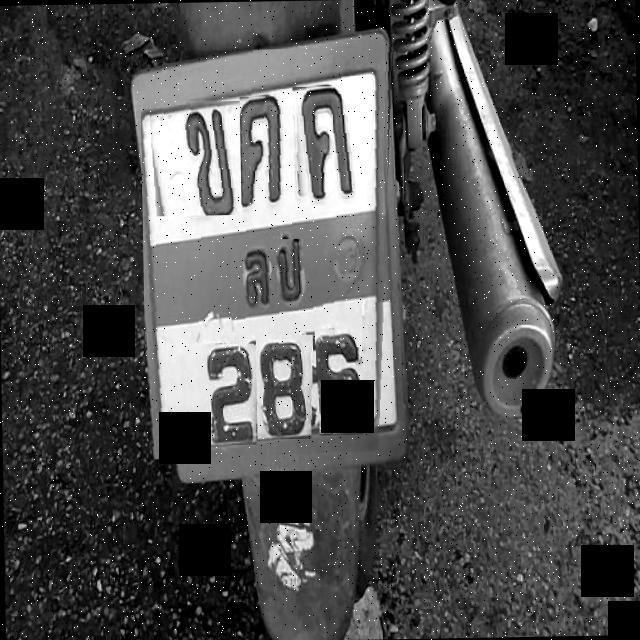letters: (148, 97, 242, 216), (292, 86, 367, 206), (186, 342, 260, 445), (255, 333, 314, 439), (239, 96, 292, 204), (314, 327, 363, 435)
license-plate: (140, 47, 384, 459)
province: (230, 238, 326, 334)
